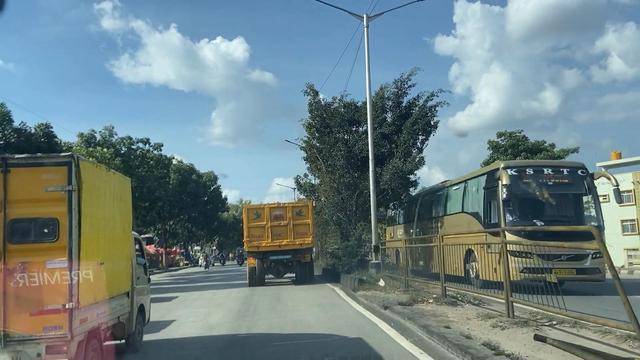HMV: (5, 157, 143, 356), (240, 194, 316, 285)
